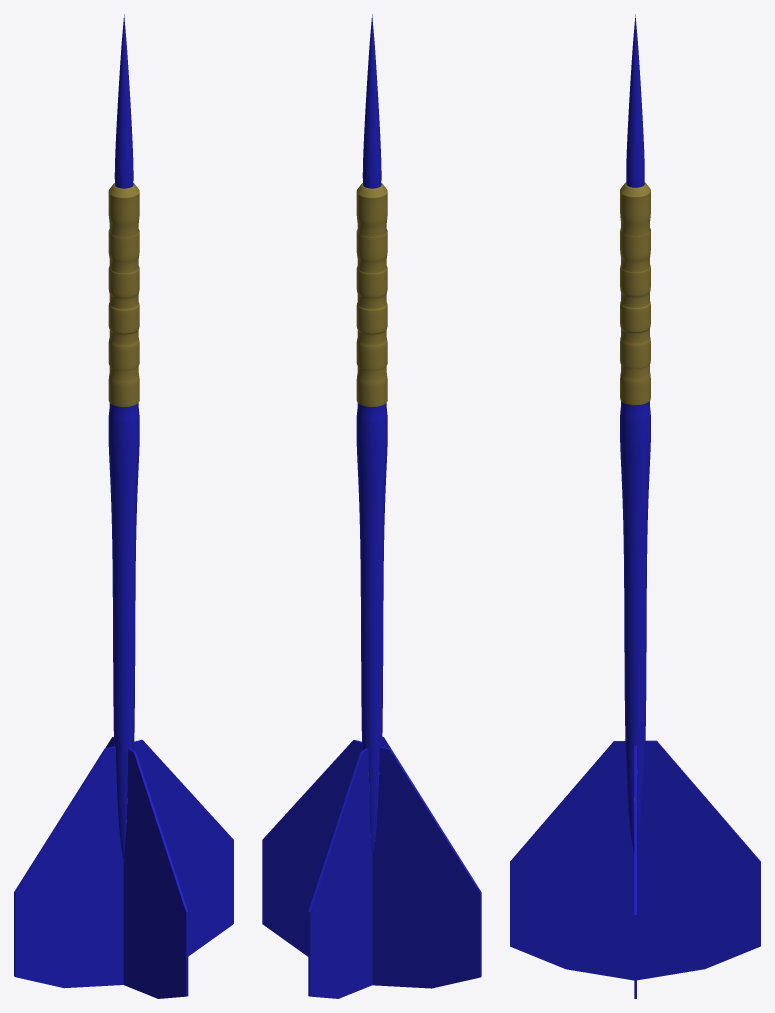
The model's file is Dart_blau.fbx.
3 renders of one model, left to right at view 1: azimuth 30°, elevation 25°; view 2: azimuth 150°, elevation 25°; view 3: azimuth 270°, elevation 25°, orthographic.
Visible parts, largest first — view 1: body; view 2: body; view 3: body.
Boxes of the visible parts, box(x1,y1,x2,y2) form: body: box(14, 14, 233, 998); body: box(262, 14, 481, 998); body: box(510, 14, 760, 998).
Bounding box in the file's own units: 28.45 × 121 × 28.45.
